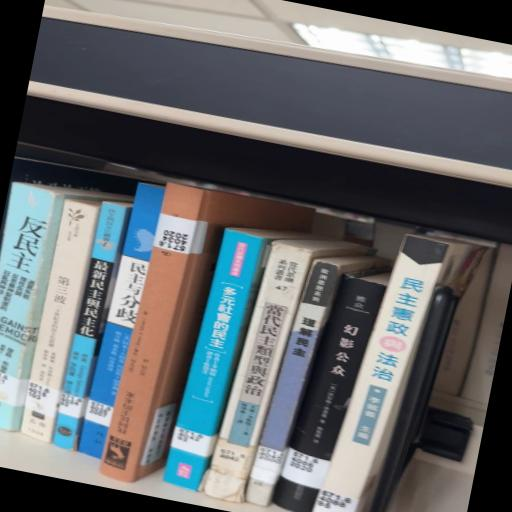reverse: (101, 184, 314, 483)
